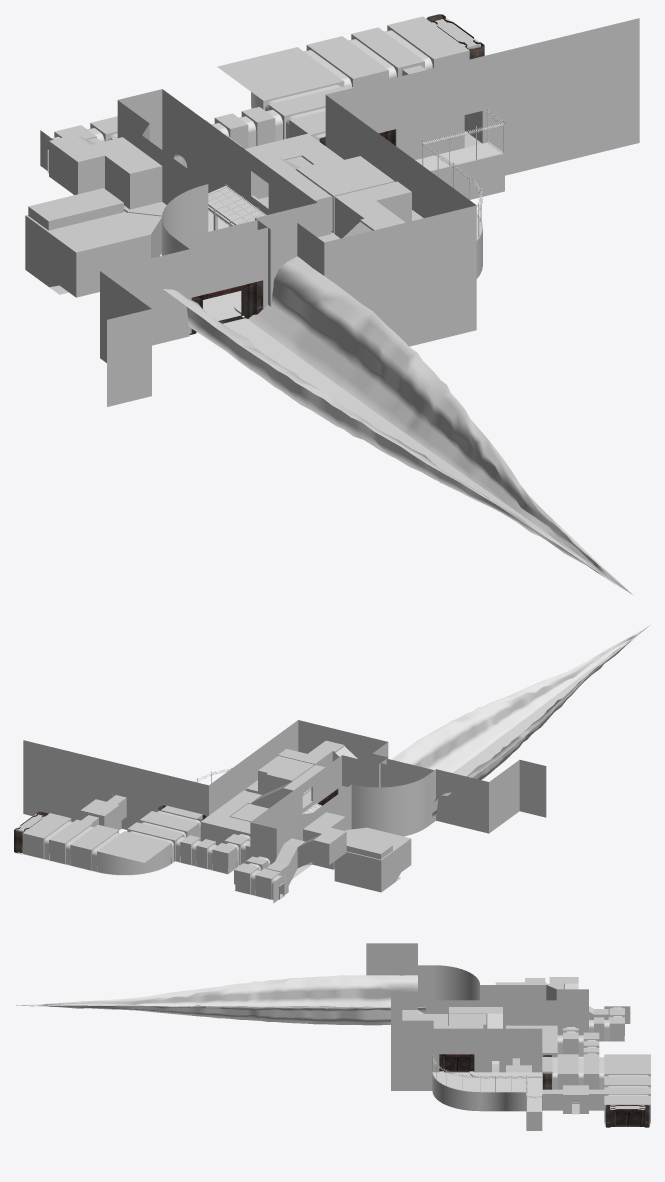
The model's file is CBR_SurfaceZone.fbx.
3 views of the same model, one above another, from view 1: azimuth 30°, elevation 25°; view 2: azimuth 150°, elevation 25°; view 3: azimuth 270°, elevation 25° (orthographic). The views are drawn at different scales.
Parts seen in each view (by area): view 1: Plane.002, EscapeArea, Plane.001, classname_brush_hczezcheckpoint_001.005; view 2: Plane.002, EscapeArea, Plane.001, Cube.037; view 3: Plane.002, EscapeArea, Plane.001, classname_brush_hczezcheckpoint_001.004, classname_brush_hczezcheckpoint_001.003.
Part boxes in pixels (x1,y1,x2,y2): Plane.002: [25, 16, 639, 406]; EscapeArea: [163, 256, 632, 594]; Plane.001: [203, 105, 639, 320]; classname_brush_hczezcheckpoint_001.005: [189, 280, 262, 334]; Plane.002: [16, 720, 546, 903]; EscapeArea: [391, 625, 649, 816]; Plane.001: [18, 792, 311, 878]; Cube.037: [97, 858, 171, 874]; Plane.002: [366, 943, 650, 1122]; EscapeArea: [16, 975, 426, 1025]; Plane.001: [432, 1071, 650, 1130]; classname_brush_hczezcheckpoint_001.004: [605, 1105, 649, 1127]; classname_brush_hczezcheckpoint_001.003: [439, 1054, 474, 1072].
Bounding box in the file's own units: 7900 × 1330 × 12302.
